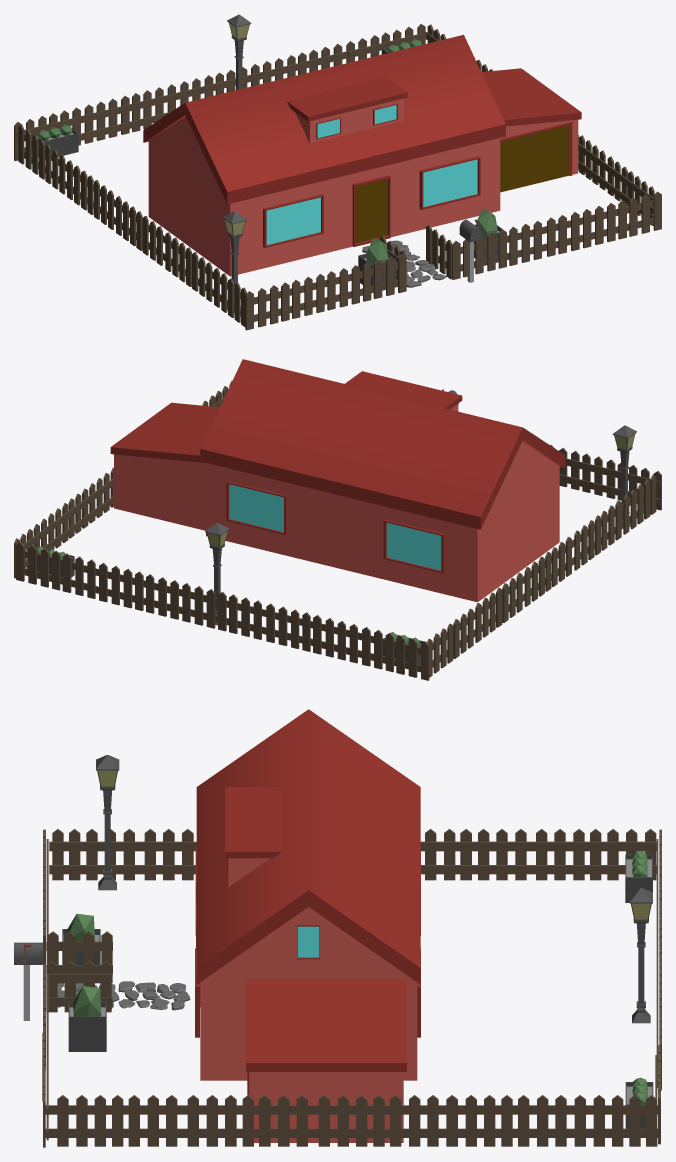
3 views of the same model, one above another, from view 1: azimuth 30°, elevation 25°; view 2: azimuth 150°, elevation 25°; view 3: azimuth 270°, elevation 25° (orthographic). The views are drawn at different scales.
Parts seen in each view (by area): view 1: ee4; view 2: ee4; view 3: ee4.
Part boxes in pixels (<box>): ee4: <box>14,14,661,330</box>; ee4: <box>14,359,661,680</box>; ee4: <box>14,709,661,1147</box>.
Bounding box in the file's own units: 25.2 × 8.44 × 25.55.
